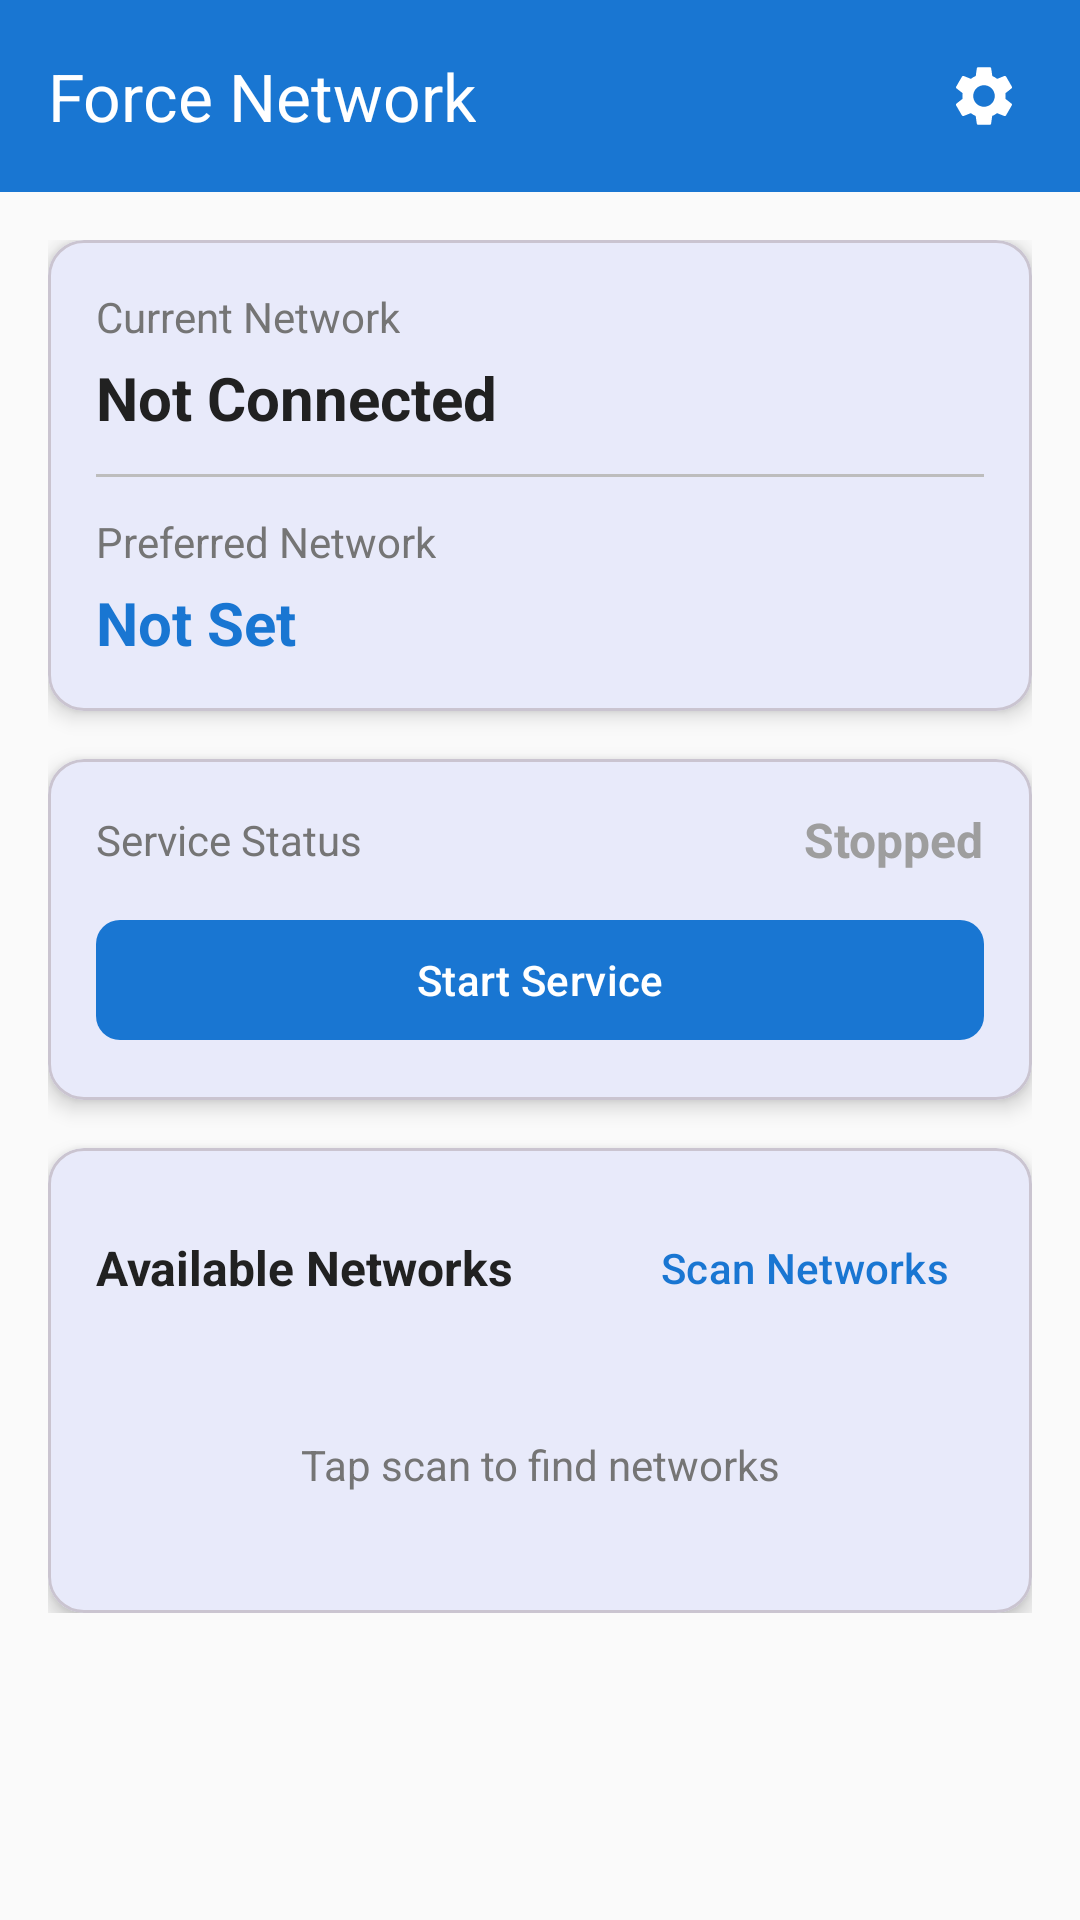

Point at icon controls on the screen. Image size 1080 × 1920, points as (x,y).
Settings: (984,96)
